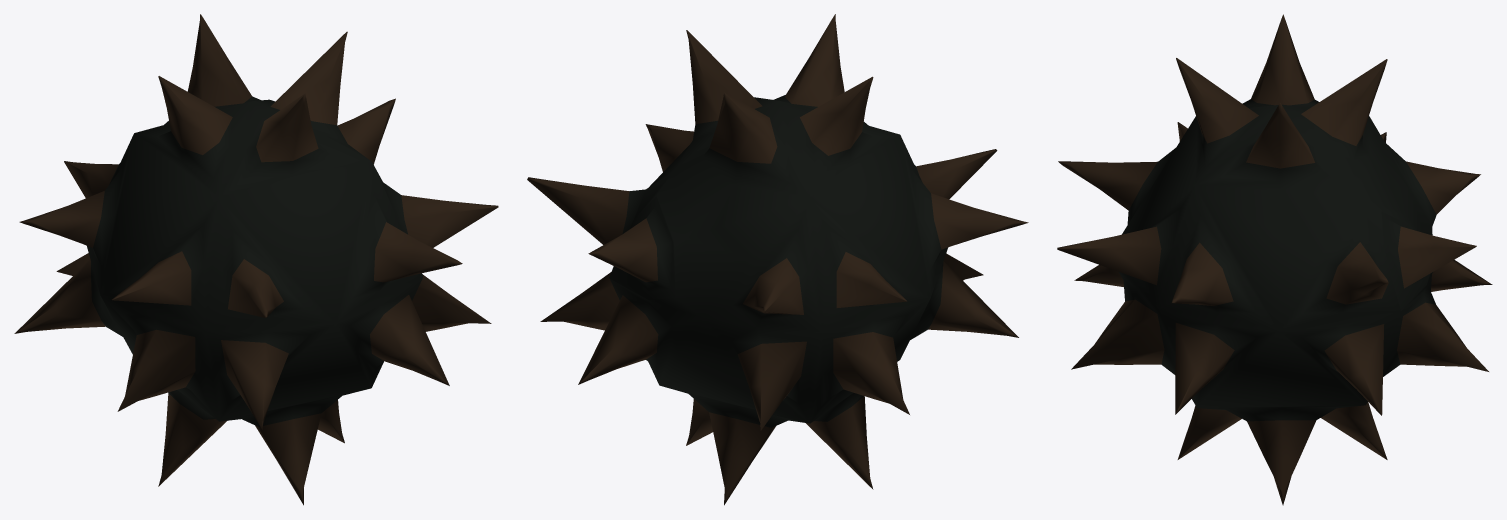
File: BadTouchBall.FBX
3 views of the same model, side by side, from view 1: azimuth 30°, elevation 25°; view 2: azimuth 150°, elevation 25°; view 3: azimuth 270°, elevation 25° (orthographic). The views are drawn at different scales.
Parts seen in each view (by area): view 1: GeoSphere002; view 2: GeoSphere002; view 3: GeoSphere002.
Boxes of the visible parts, box(x1,y1,x2,y2) form: GeoSphere002: box(14, 14, 498, 505); GeoSphere002: box(527, 14, 1028, 505); GeoSphere002: box(1057, 14, 1492, 505).
Bounding box in the file's own units: 76.85 × 77.57 × 75.84.
